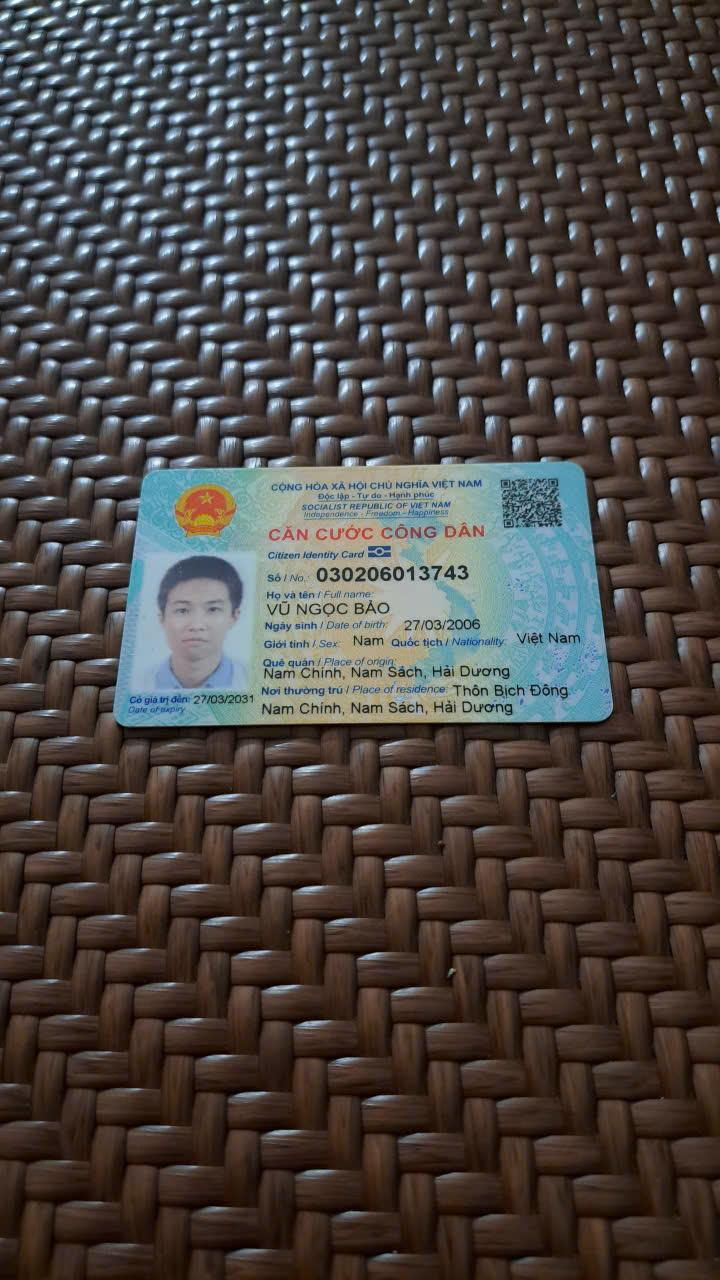cccd: (102, 453, 621, 734)
